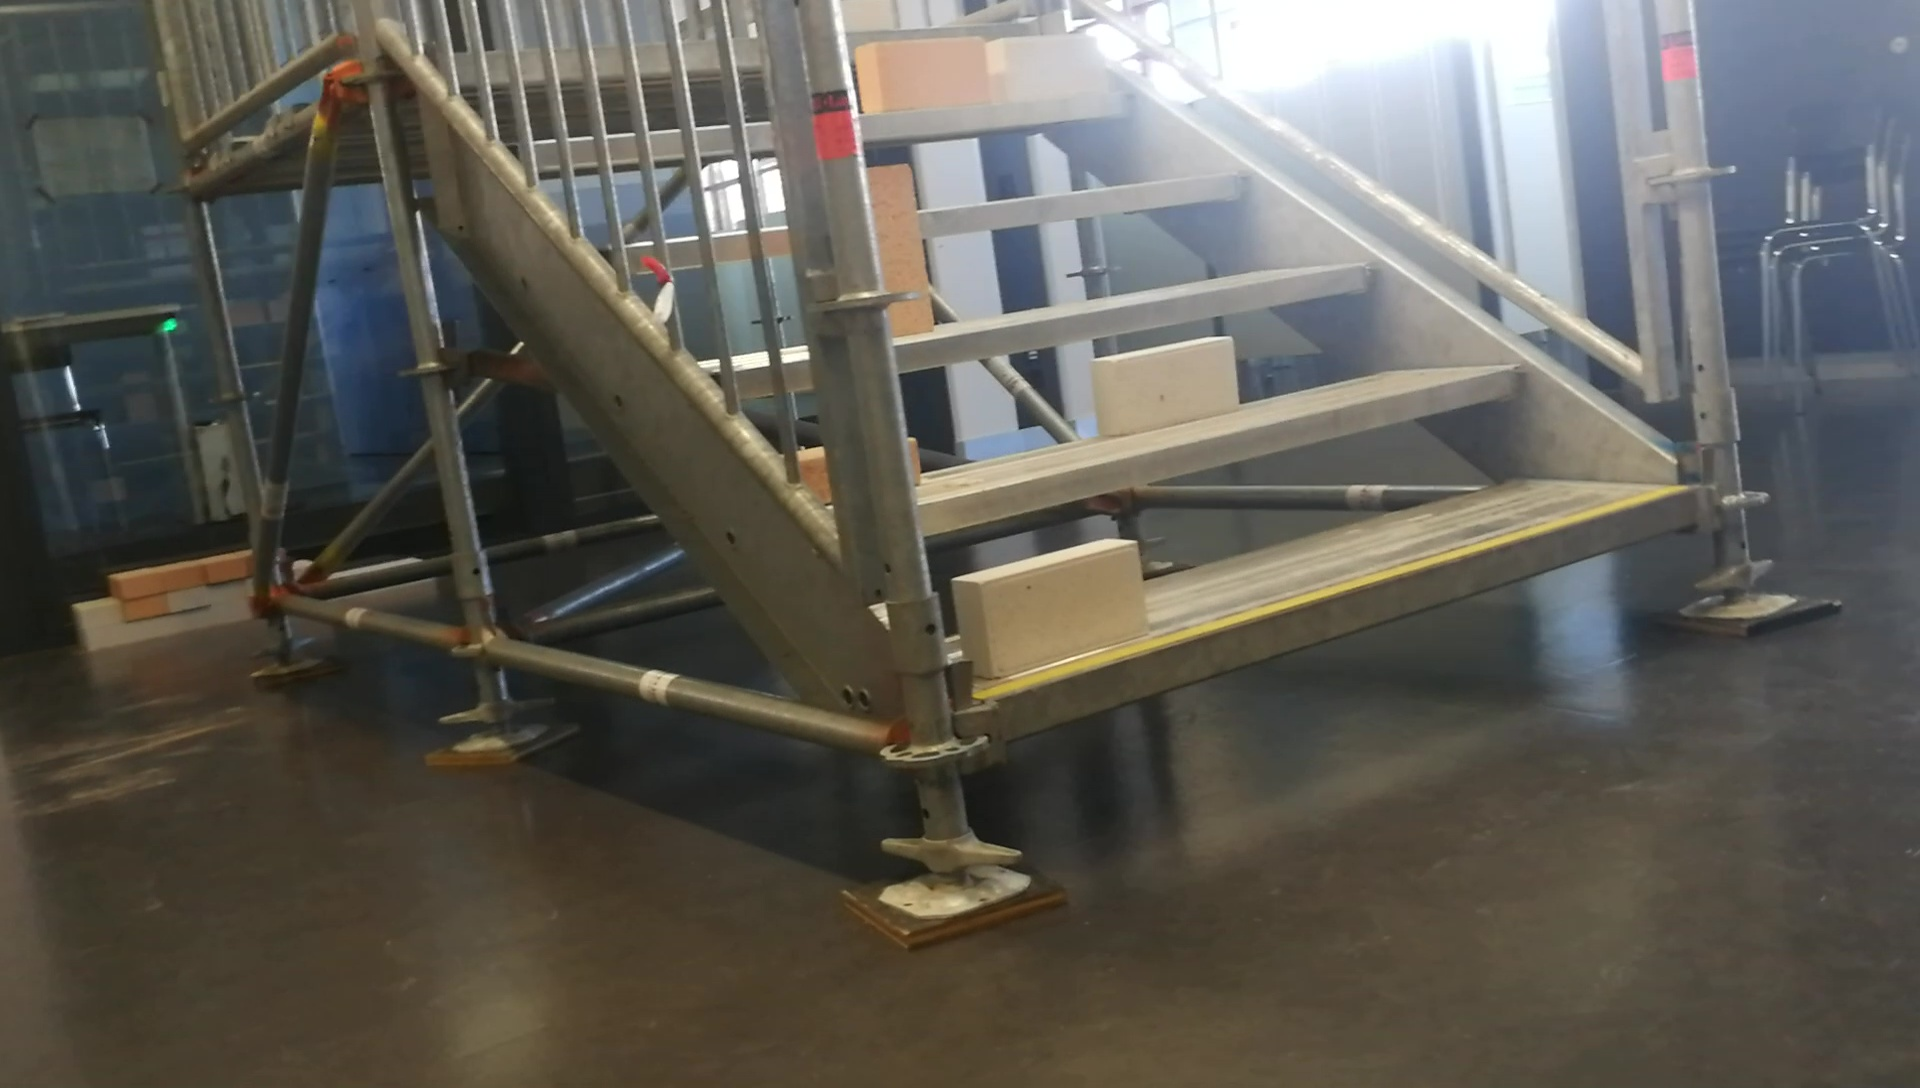brick: (953, 538, 1141, 673), (1095, 334, 1234, 435), (870, 164, 934, 338), (857, 40, 977, 108), (985, 36, 1096, 103)
edge: (997, 489, 1691, 737), (919, 365, 1523, 538)
stairs: (901, 7, 1841, 948)
